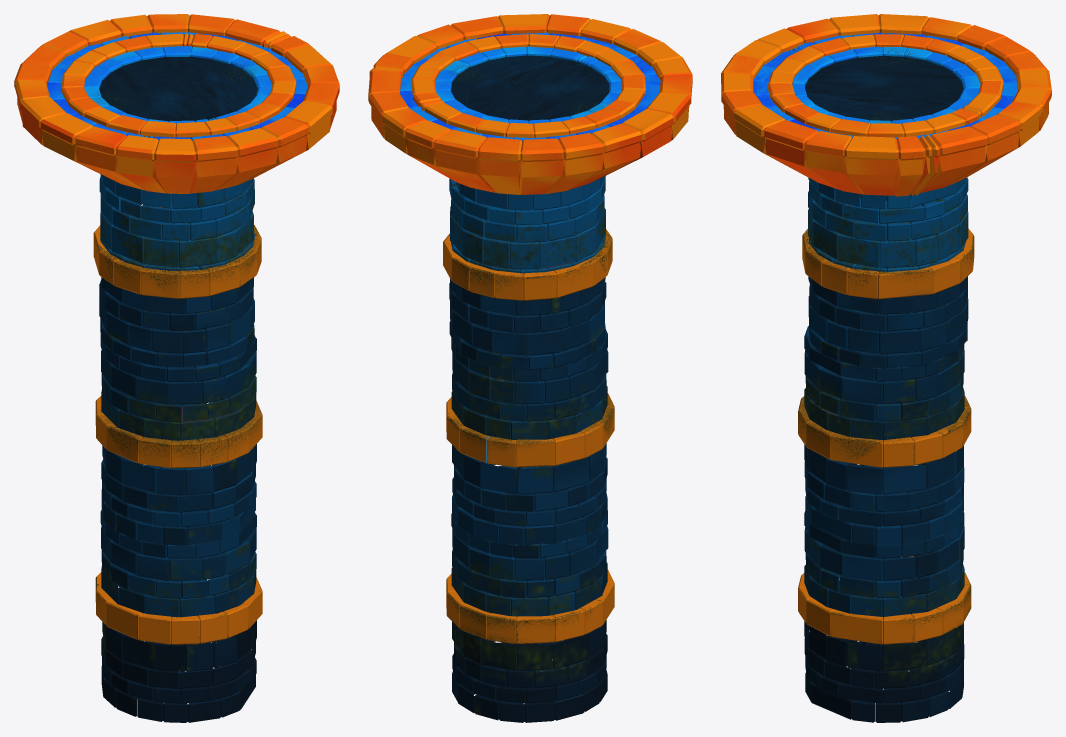
The model's file is Plataforma_basicaV.2.fbx.
The picture shows the model from 3 angles, left to right: view 1: azimuth 30°, elevation 25°; view 2: azimuth 150°, elevation 25°; view 3: azimuth 270°, elevation 25°; orthographic projection.
Parts seen in each view (by area): view 1: Plataforma Base (opt).003; view 2: Plataforma Base (opt).003; view 3: Plataforma Base (opt).003.
Boxes of the visible parts, x1,y1,x2,y2 form: Plataforma Base (opt).003: (14, 14, 339, 722); Plataforma Base (opt).003: (368, 14, 692, 722); Plataforma Base (opt).003: (721, 14, 1051, 722).
Bounding box in the file's own units: 370 × 763 × 376.
1 material, 1 textured.
